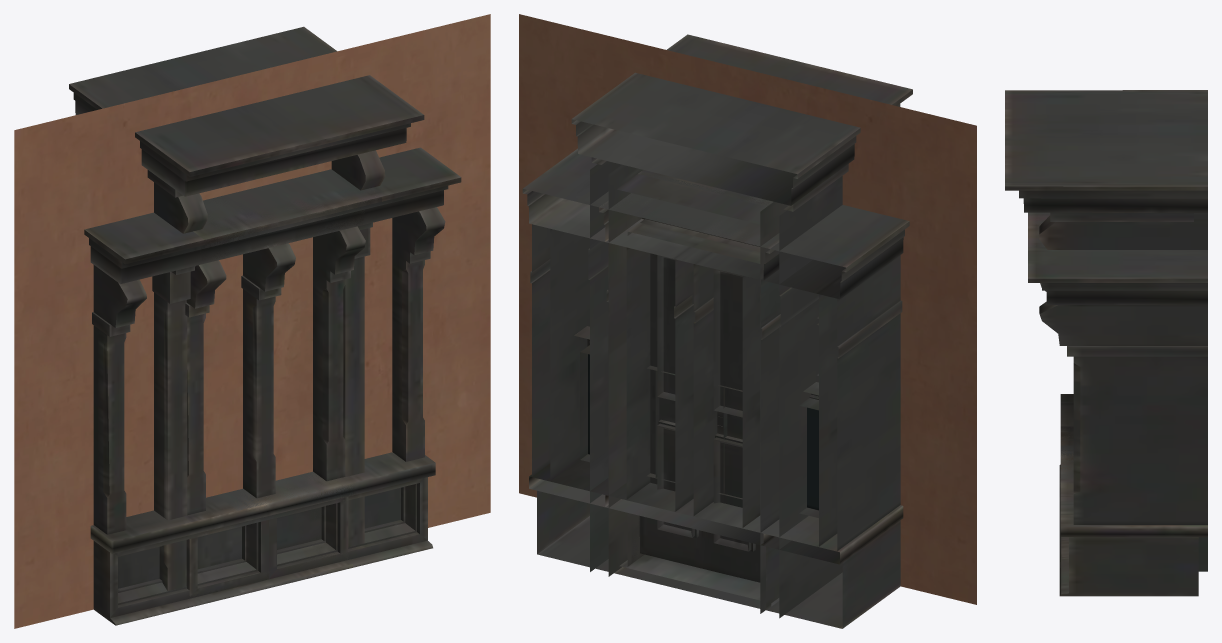
Rendered from modular_urban_apartments_facade-low.glb.
3 views of the same model, side by side, from view 1: azimuth 30°, elevation 25°; view 2: azimuth 150°, elevation 25°; view 3: azimuth 270°, elevation 25° (orthographic). The views are drawn at different scales.
Visible parts, largest first — view 1: wall_door_centered_small_01, window_centered_large_01, door, window, wall_window_centered_large_01, wall_standard_standard_01, wall_window_centered_small_01; view 2: door, window_centered_large_01, wall_window_centered_large_01, wall_window_centered_small_01, window, wall_standard_standard_01; view 3: window_centered_large_01, door, window.
Boxes of the visible parts, x1,y1,x2,y2 form: wall_door_centered_small_01: (14,14,490,628); window_centered_large_01: (84,147,461,625); door: (69,26,424,591); window: (184,187,381,605); wall_window_centered_large_01: (14,47,490,527); wall_standard_standard_01: (27,91,490,516); wall_window_centered_small_01: (14,51,490,522); door: (571,34,912,618); window_centered_large_01: (522,148,909,628); wall_window_centered_large_01: (519,14,976,581); wall_window_centered_small_01: (519,14,976,604); window: (599,193,780,609); wall_standard_standard_01: (519,15,976,595); window_centered_large_01: (1028,212,1207,596); door: (1005,90,1207,571); window: (1028,212,1073,563).
Size of the model in its own units: 1 by 1 by 0.438.
3 materials, 3 textured.
